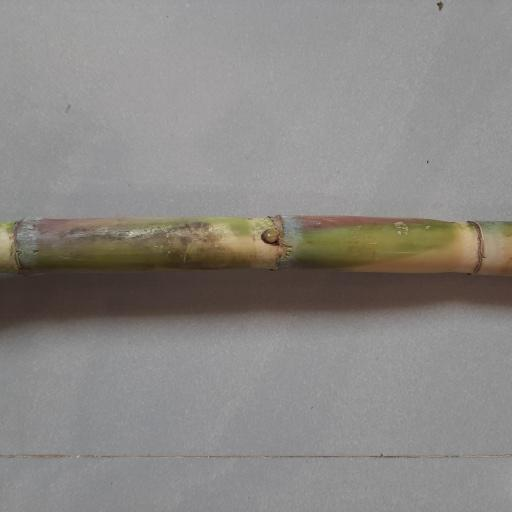Bud: (259, 228, 280, 244)
